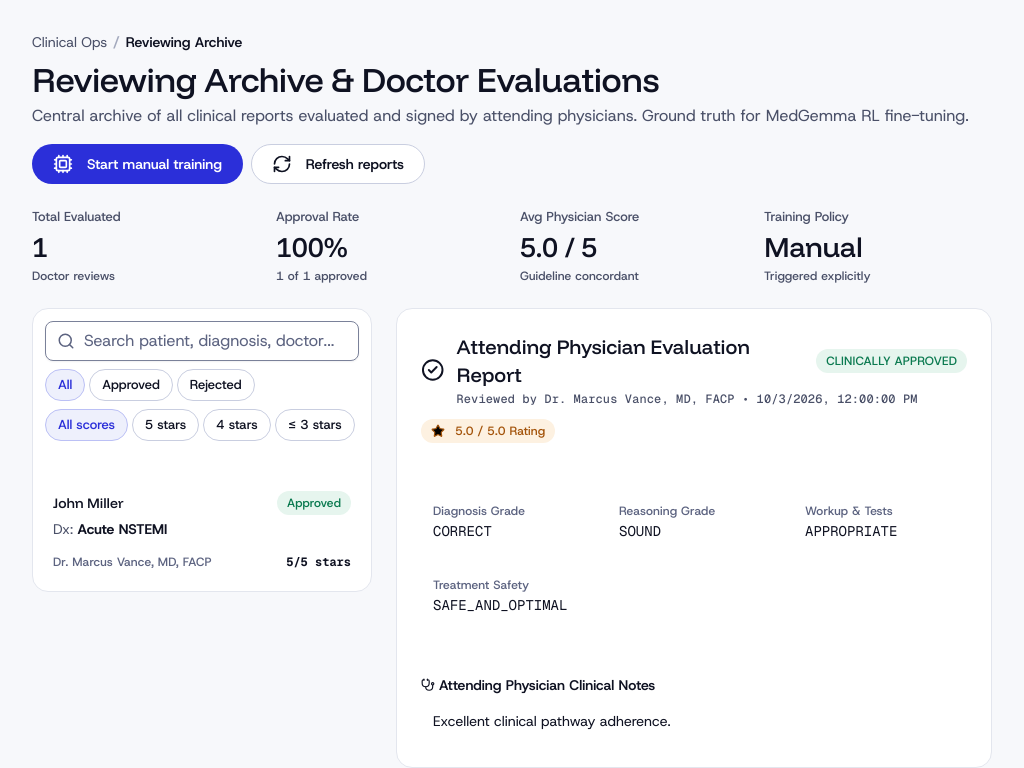
it: ReviewedReportsSection › opens manual fine-tuning console when button is clicked
The width and height of the screenshot is (1024, 768).
Click the button "Start manual training": (137, 164) [32, 144, 243, 184]
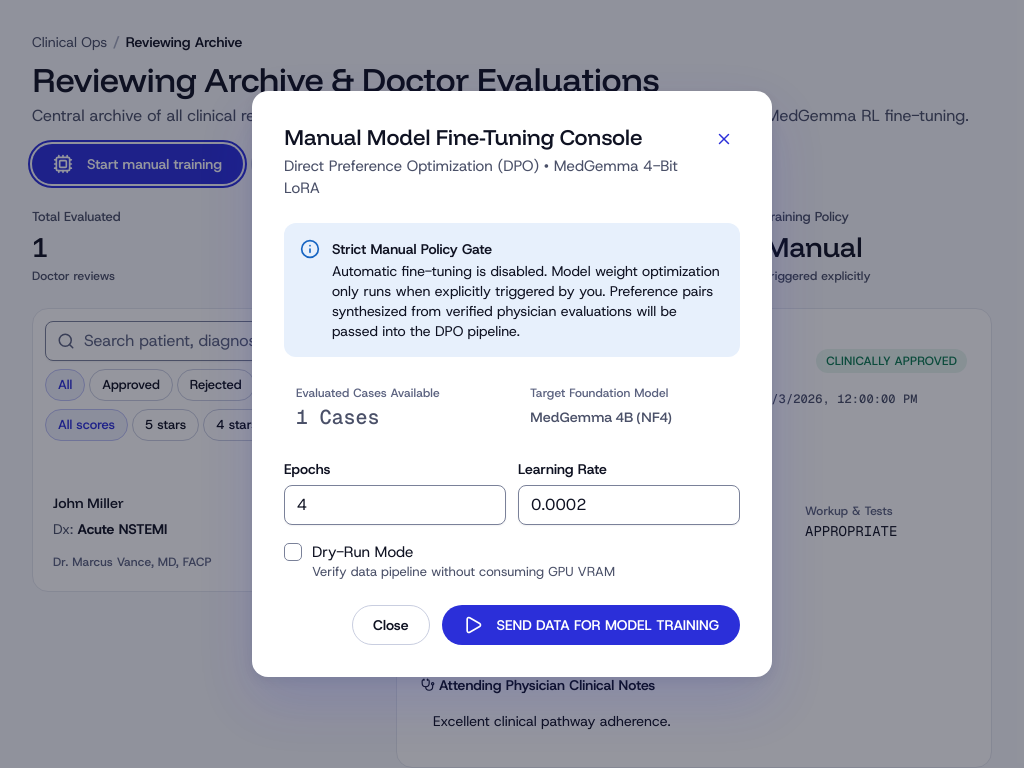
Result: the heading "Manual Model Fine-Tuning Console" is shown at [284, 123, 642, 151]
Result: the button "SEND DATA FOR MODEL TRAINING" is shown at [442, 605, 740, 645]
